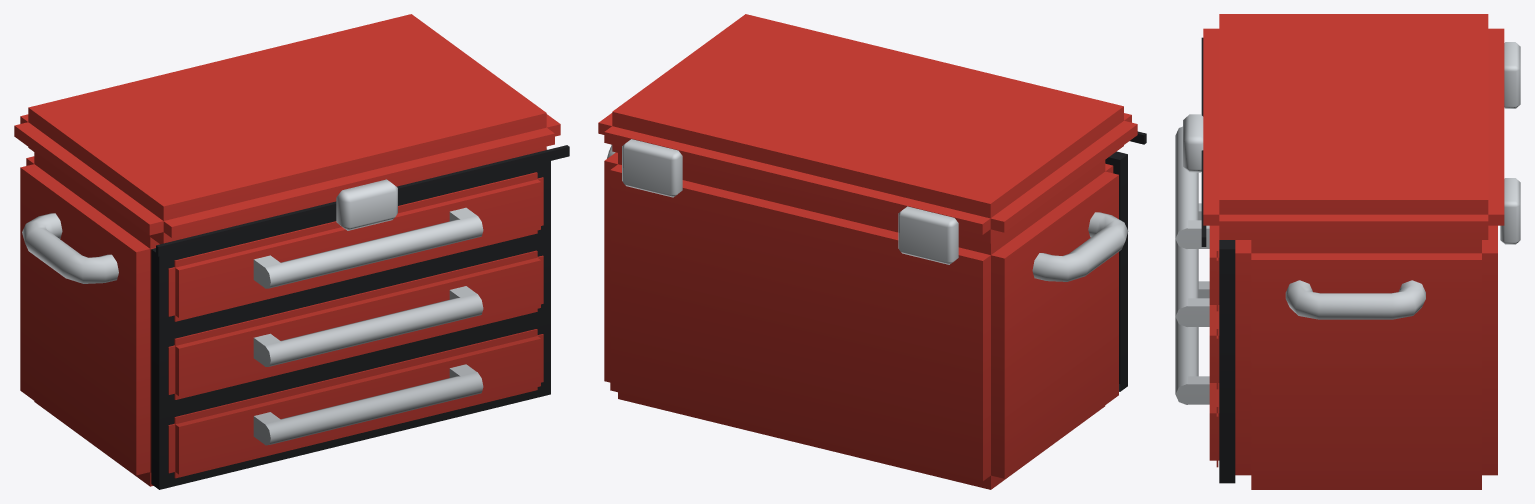
The model's file is SM_ToolChest_Top_01.glb.
The picture shows the model from 3 angles, left to right: view 1: azimuth 30°, elevation 25°; view 2: azimuth 150°, elevation 25°; view 3: azimuth 270°, elevation 25°; orthographic projection.
Visible parts, largest first — view 1: SM_ToolChest_Top_01; view 2: SM_ToolChest_Top_01; view 3: SM_ToolChest_Top_01.
Part boxes in pixels (x1,y1,x2,y2): SM_ToolChest_Top_01: [14, 14, 569, 489]; SM_ToolChest_Top_01: [598, 14, 1146, 489]; SM_ToolChest_Top_01: [1175, 14, 1520, 489].
Size of the model in its own units: 0.6949 by 0.4 by 0.4295.
1 material, 1 textured.
